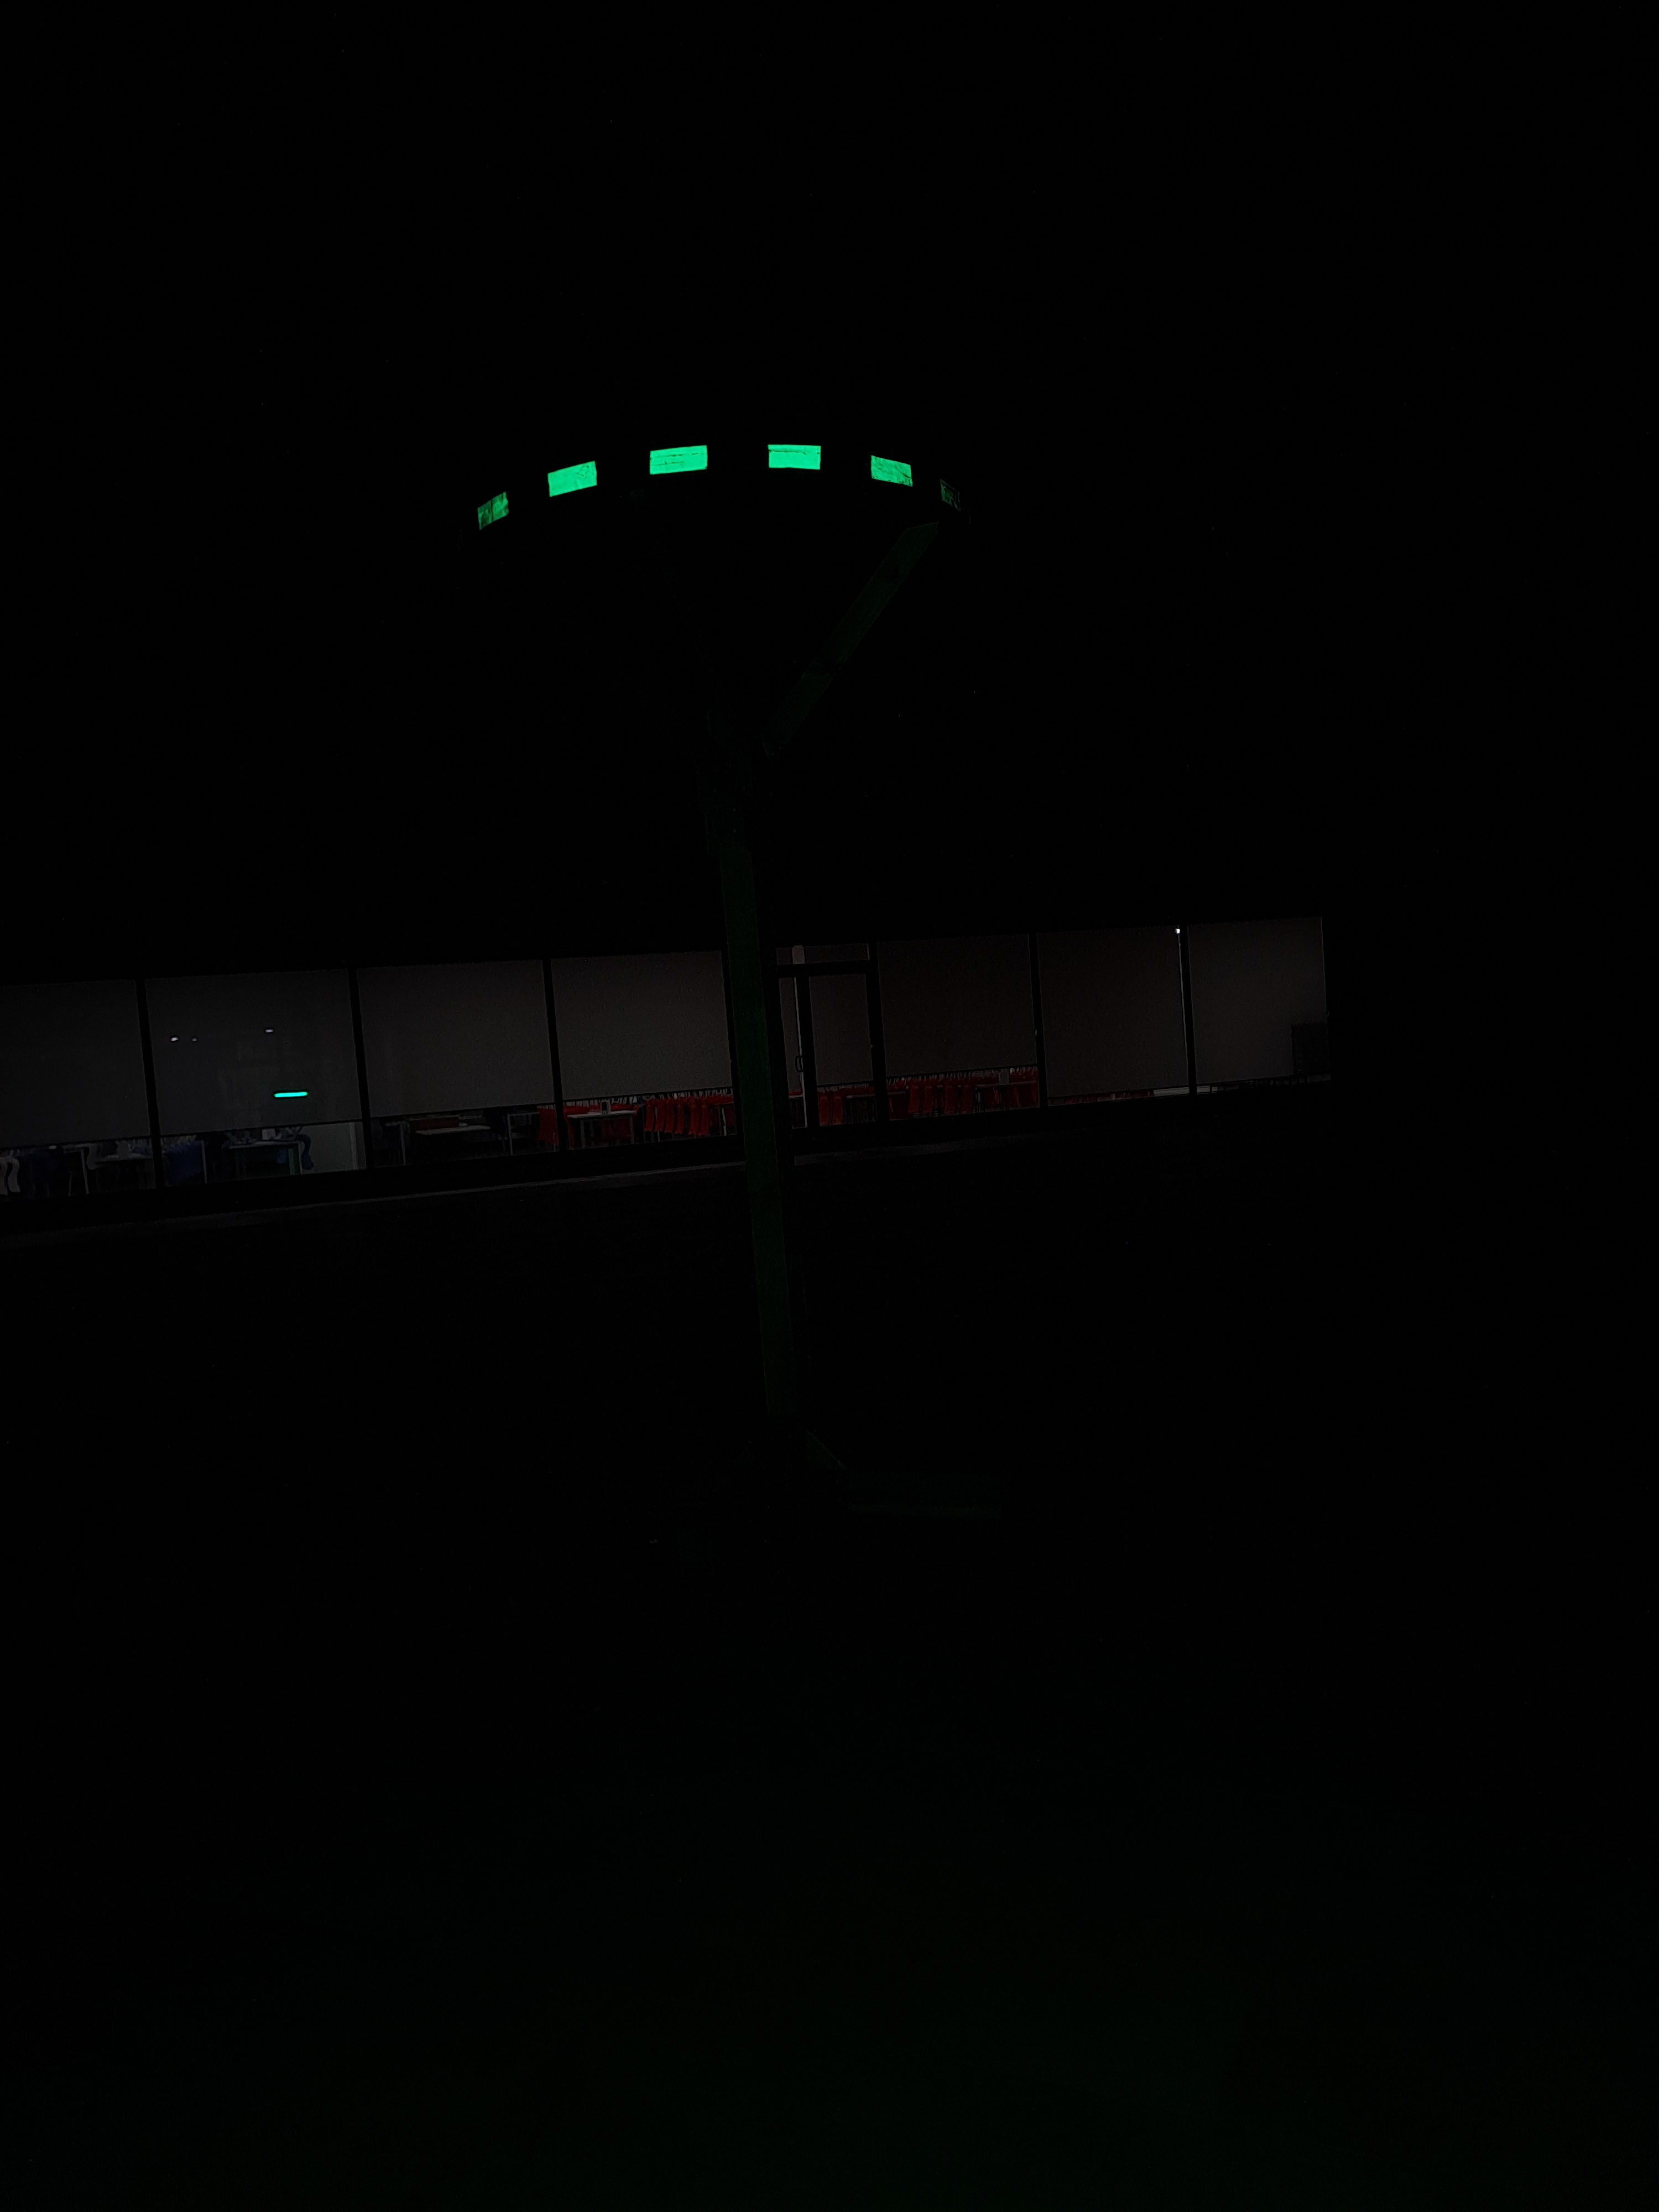hoop: (448, 439, 971, 526)
